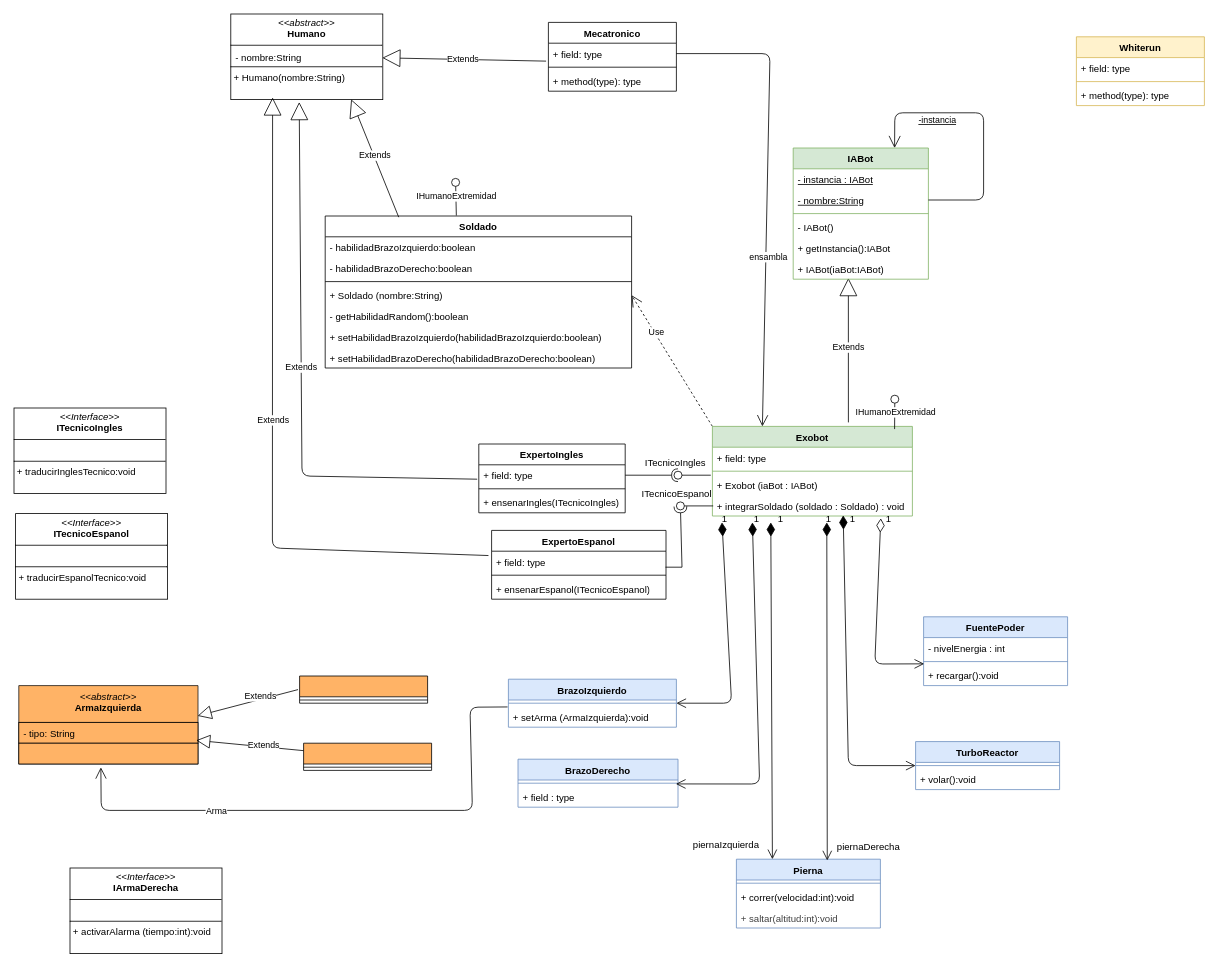
The diagram is 1218 pixels wide and 968 high, and some of its shapes have lost their labels. Each missing label, with the centre of its shape:
"+ disparar(cantidadBalas:int):void" belongs at (108,753).
"ArmaBazuca" belongs at (367,756).
"ArmaMetralleta" belongs at (363,689).
